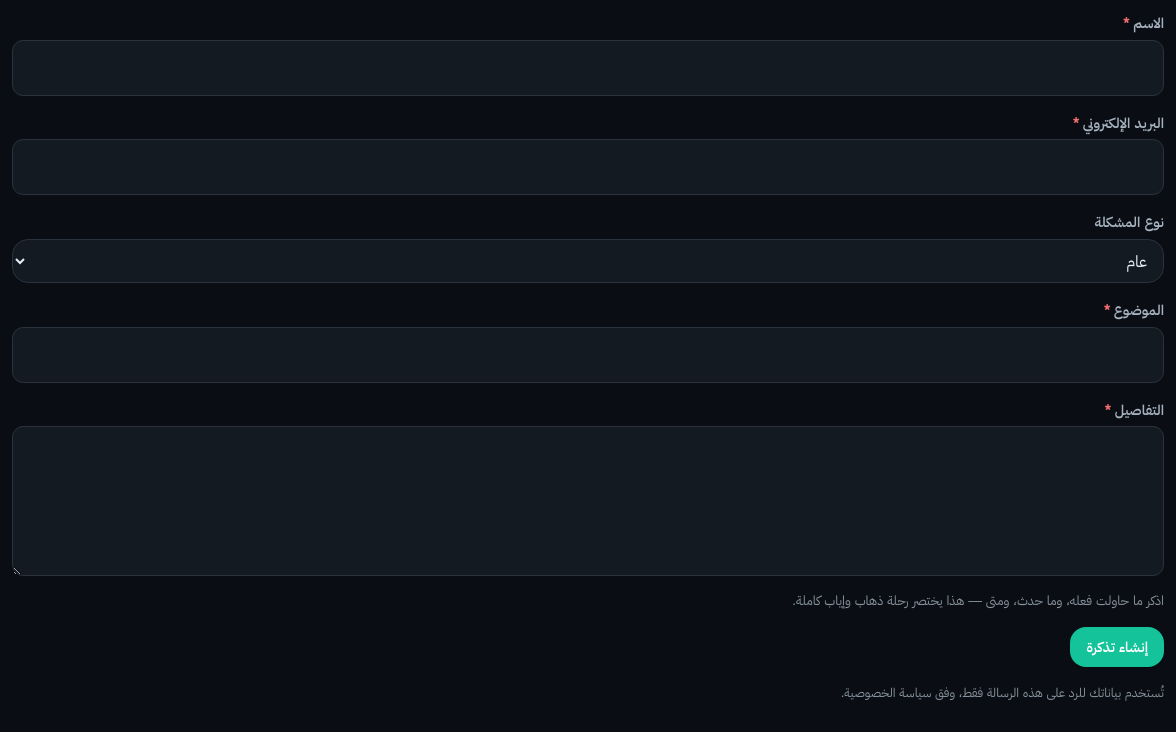
Test: the support form › returns a reference the sender can keep
The width and height of the screenshot is (1176, 732).
Type "خالد" into the field labelled "الاسم *".
click(588, 68); type("خالد")  # box [12,40,1164,96]
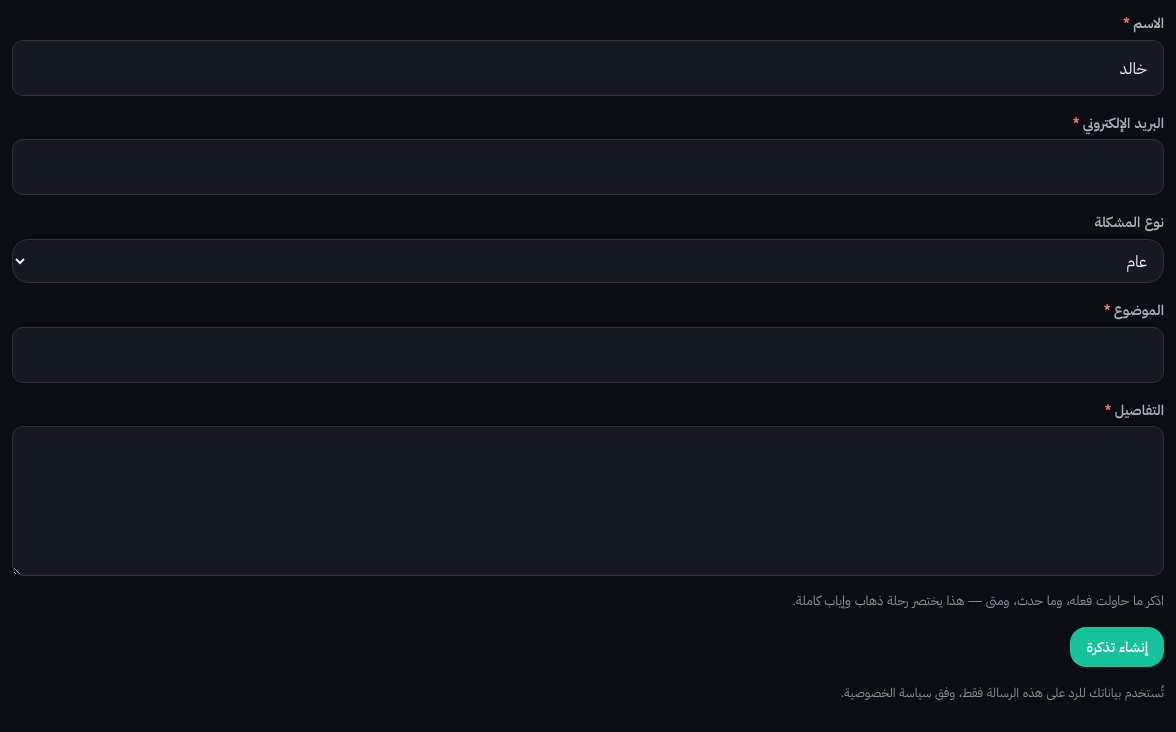
Type "k@example.test" into the field labelled "البريد الإلكتروني *".
click(588, 167); type("k@example.test")  # box [12,139,1164,195]
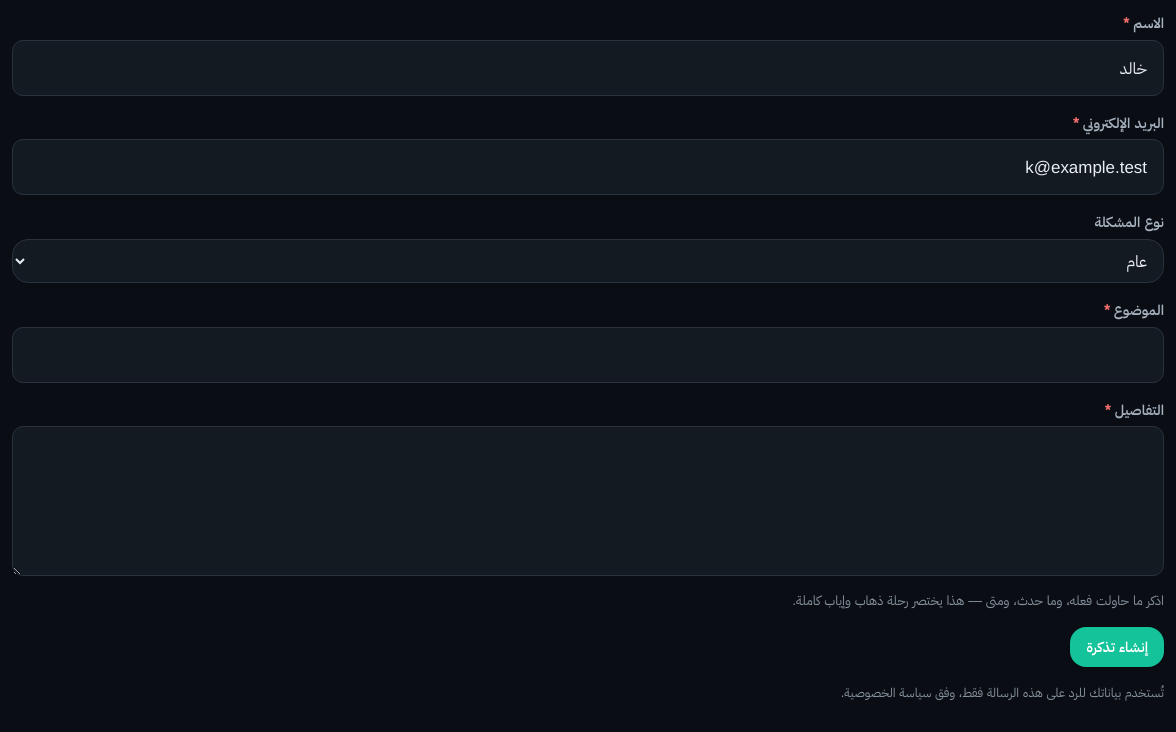
Type "المزامنة متوقفة" into the field labelled "الموضوع *".
click(588, 355); type("المزامنة متوقفة")  # box [12,327,1164,383]
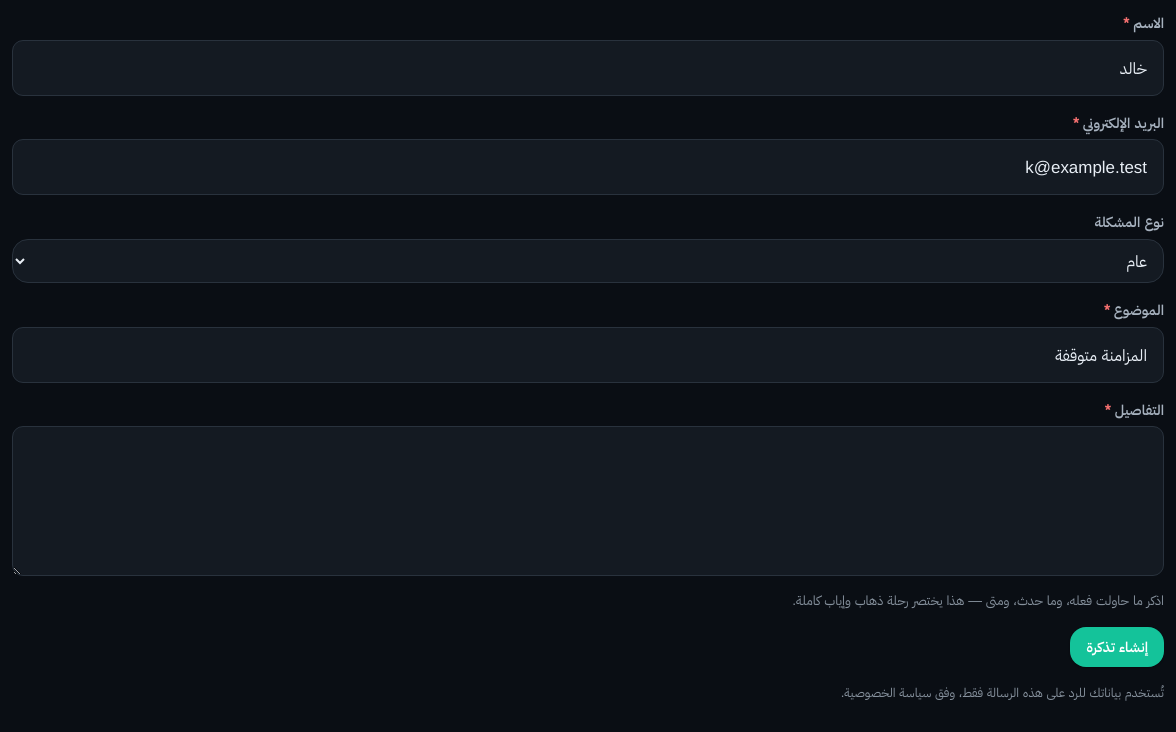
Type "لم تصل أرقام منذ يومين رغم أن الحساب مربوط." into the text box labelled "التفاصيل *".
click(588, 501); type("لم تصل أرقام منذ يومين رغم أن الحساب مربوط.")  # box [12,426,1164,576]
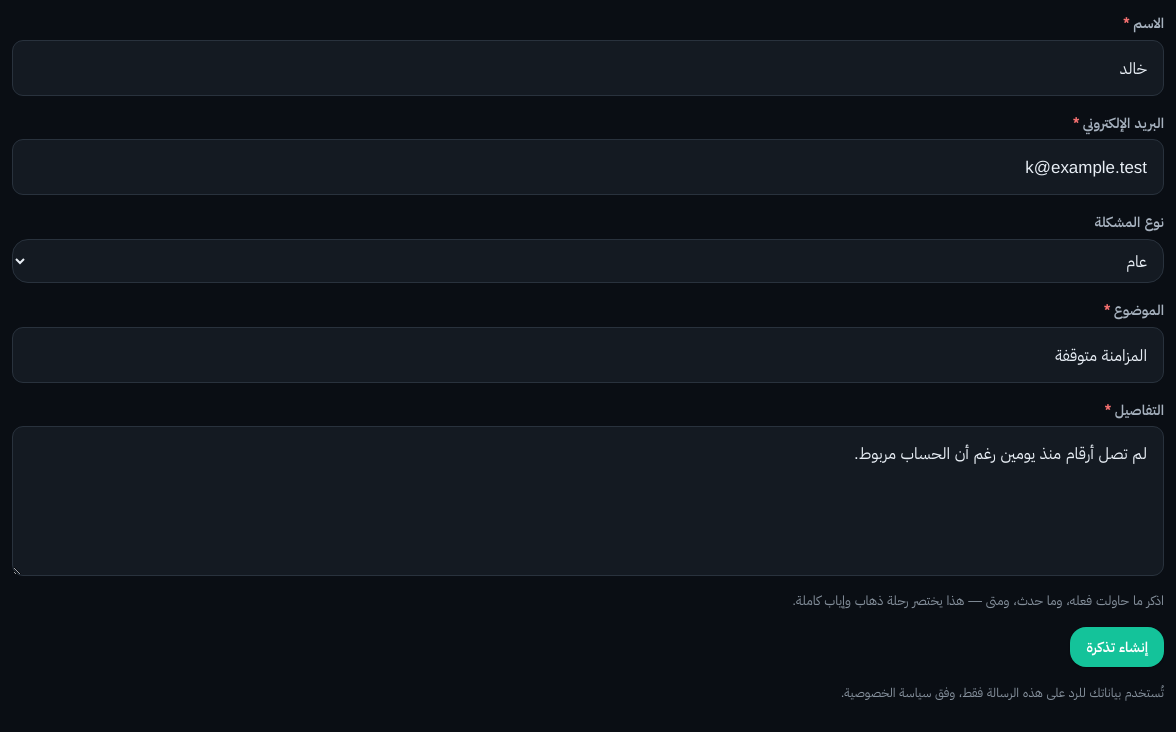
Click the button with test id "support-form-submit".
click(1117, 647)  # box [1070,627,1164,667]
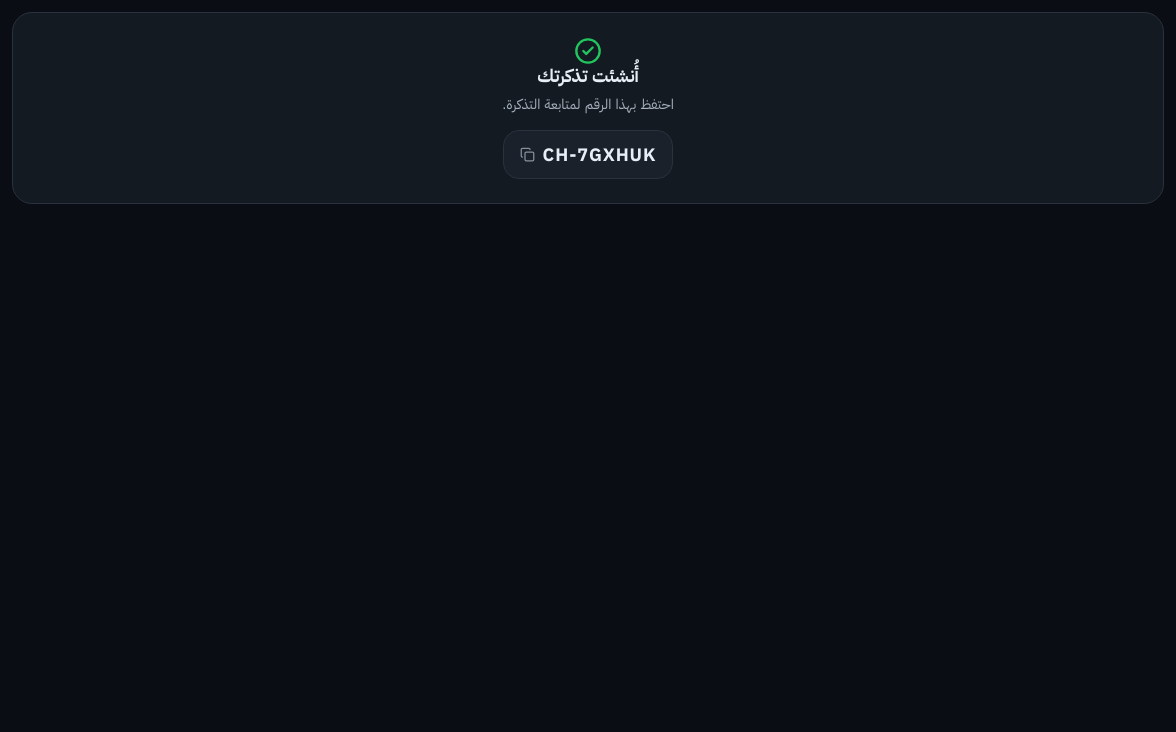
Result: the text with test id "reference-code" reads "CH-7GXHUK" at [543,141,656,168]
